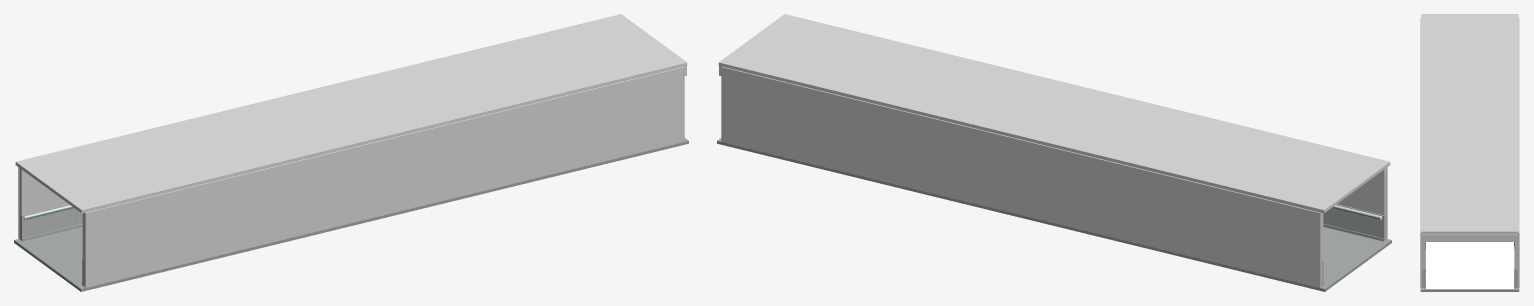
Rendered from corridor-reference-v1.glb.
The picture shows the model from 3 angles, left to right: view 1: azimuth 30°, elevation 25°; view 2: azimuth 150°, elevation 25°; view 3: azimuth 270°, elevation 25°; orthographic projection. The views are drawn at different scales.
Visible parts, largest first — view 1: 墙壁2, 天花板, 地板, Static_Ceramic warm white, Static_Impact panel pearl grey; view 2: 墙壁, 天花板, 地板, Static_Ceramic warm white, Static_Impact panel pearl grey; view 3: 天花板, Static_Daylight beyond window, Static_Ceramic warm white, 墙壁, 墙壁2, 地板, Static_Impact panel pearl grey.
Boxes of the visible parts, x1=… form: 墙壁2: x1=84, y1=66, x2=684, y2=287; 天花板: x1=15, y1=14, x2=687, y2=213; 地板: x1=14, y1=138, x2=688, y2=291; Static_Ceramic warm white: x1=20, y1=66, x2=686, y2=260; Static_Impact panel pearl grey: x1=20, y1=204, x2=84, y2=286; 墙壁: x1=721, y1=66, x2=1321, y2=287; 天花板: x1=718, y1=14, x2=1390, y2=213; 地板: x1=717, y1=138, x2=1391, y2=291; Static_Ceramic warm white: x1=719, y1=66, x2=1385, y2=260; Static_Impact panel pearl grey: x1=1321, y1=204, x2=1385, y2=286; 天花板: x1=1421, y1=14, x2=1518, y2=233; Static_Daylight beyond window: x1=1426, y1=242, x2=1513, y2=288; Static_Ceramic warm white: x1=1422, y1=234, x2=1517, y2=269; 墙壁: x1=1517, y1=17, x2=1519, y2=287; 墙壁2: x1=1420, y1=17, x2=1422, y2=287; 地板: x1=1420, y1=288, x2=1519, y2=291; Static_Impact panel pearl grey: x1=1422, y1=249, x2=1517, y2=287.
Bounding box in the file's own units: 26.5 × 3.39 × 5.08.
19 materials, 2 textured.
